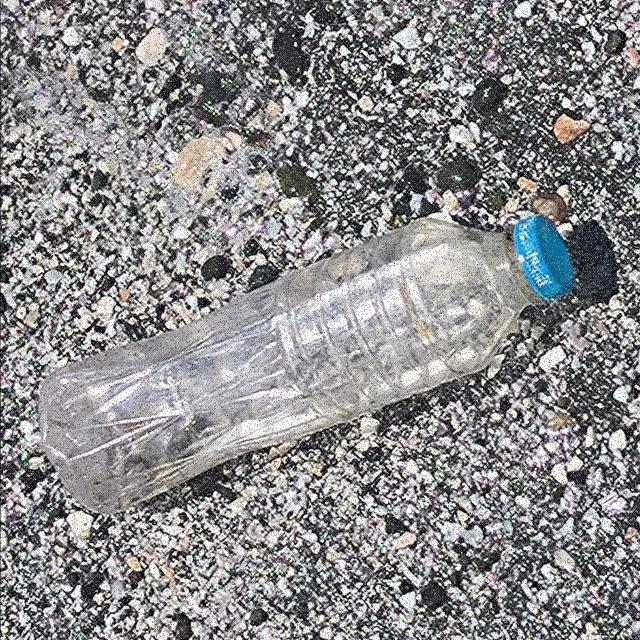plastic_waste: (38, 217, 573, 515)
